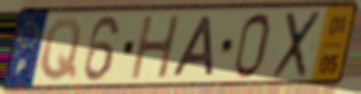0: (232, 10, 274, 80)
6: (81, 13, 123, 84)
A: (169, 14, 216, 79)
H: (129, 13, 183, 82)
Q: (37, 16, 84, 84)
X: (269, 8, 324, 81)
